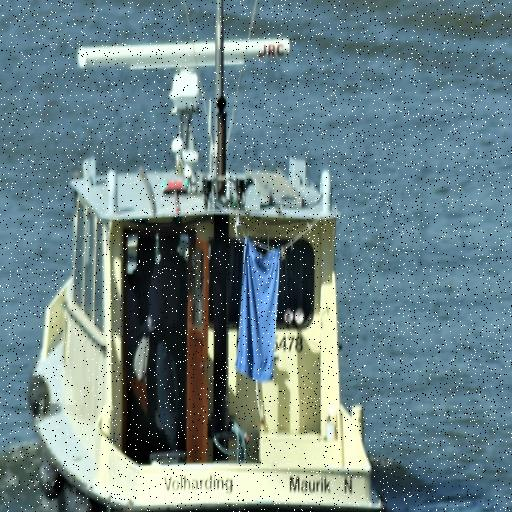tugboat: (25, 33, 393, 512)
